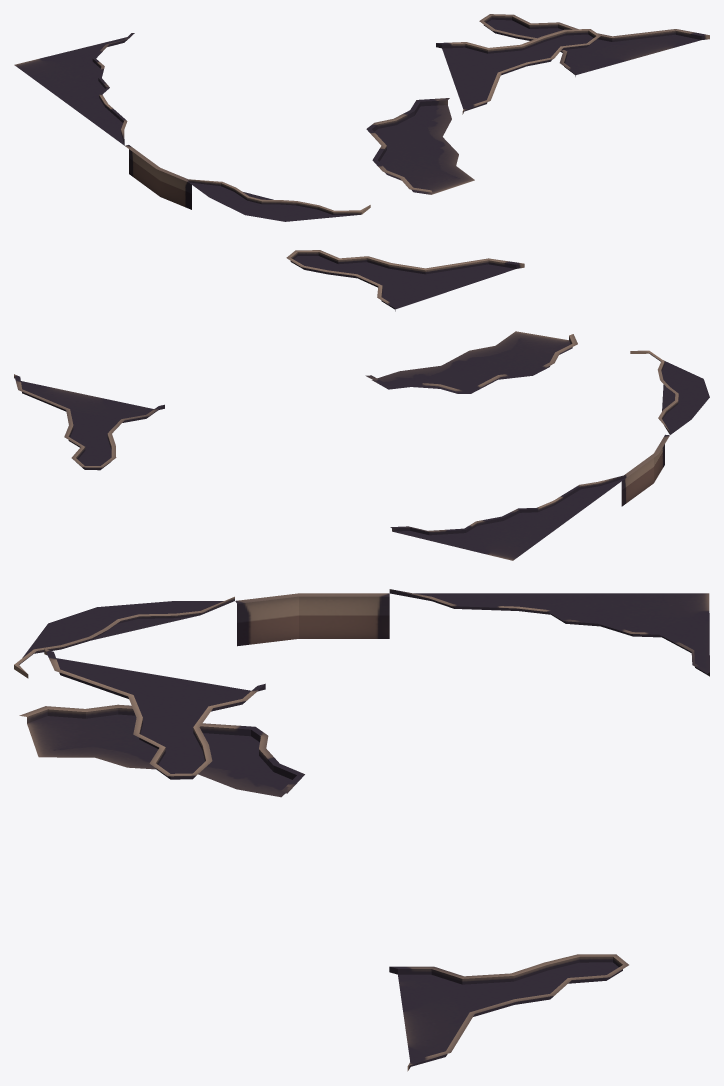
File: Ground_02.FBX
The picture shows the model from 3 angles, top to bottom: view 1: azimuth 30°, elevation 25°; view 2: azimuth 150°, elevation 25°; view 3: azimuth 270°, elevation 25°; orthographic projection. The views are drawn at different scales.
Visible parts, largest first — view 1: Ground_02; view 2: Ground_02; view 3: Ground_02.
Boxes of the visible parts, x1,y1,x2,y2 form: Ground_02: (14,14,709,221); Ground_02: (14,250,709,560); Ground_02: (14,589,709,1071).
Bounding box in the file's own units: 40.36 × 7.23 × 28.44.
